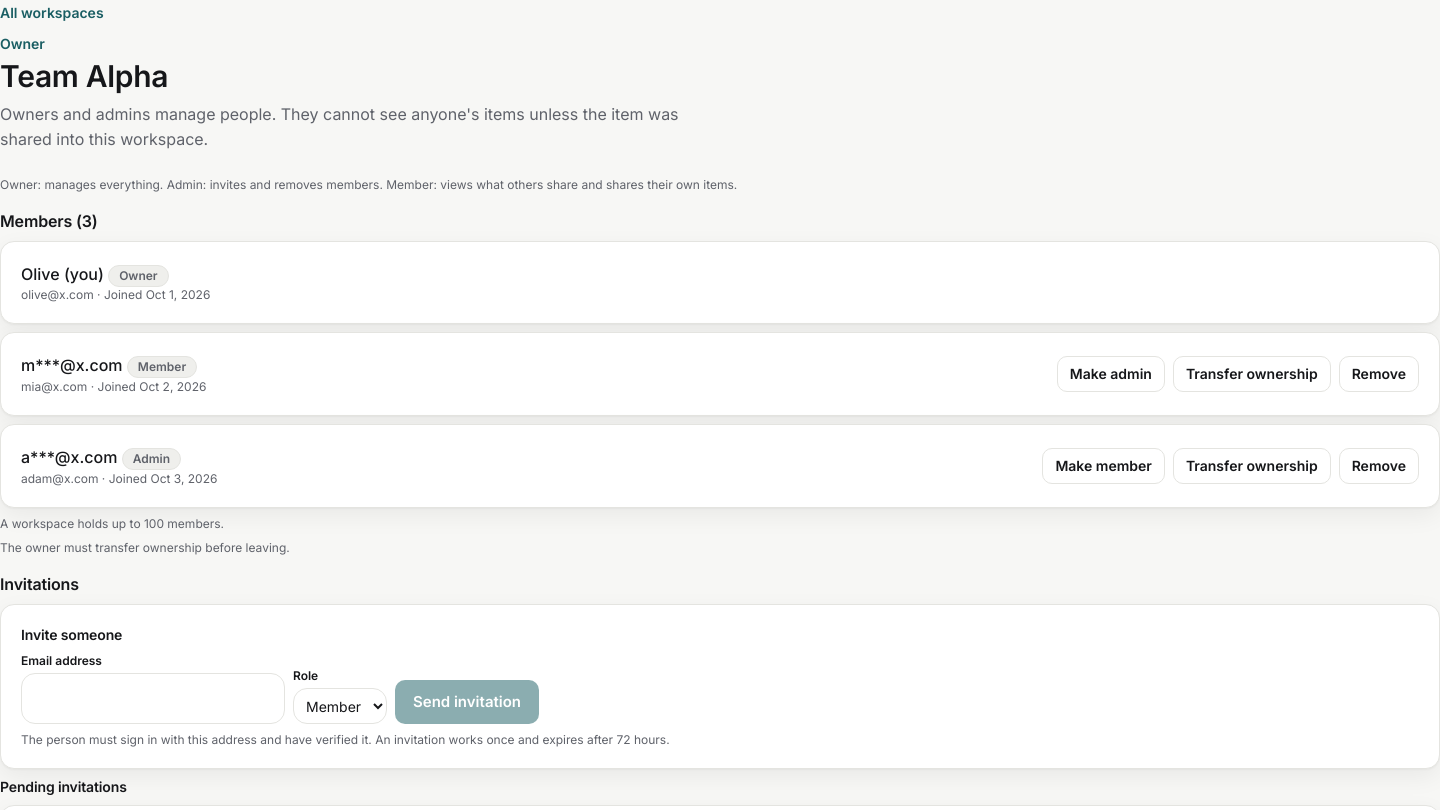
Test case: Workspace detail as the owner › removes a member only after an accessible confirmation that says what happens, and Cancel changes nothing
This screenshot has width=1440, height=810.
Click the button "Remove" in the row of "Joined Oct 2, 2026".
click(1379, 374)  # box [1339,356,1419,392]
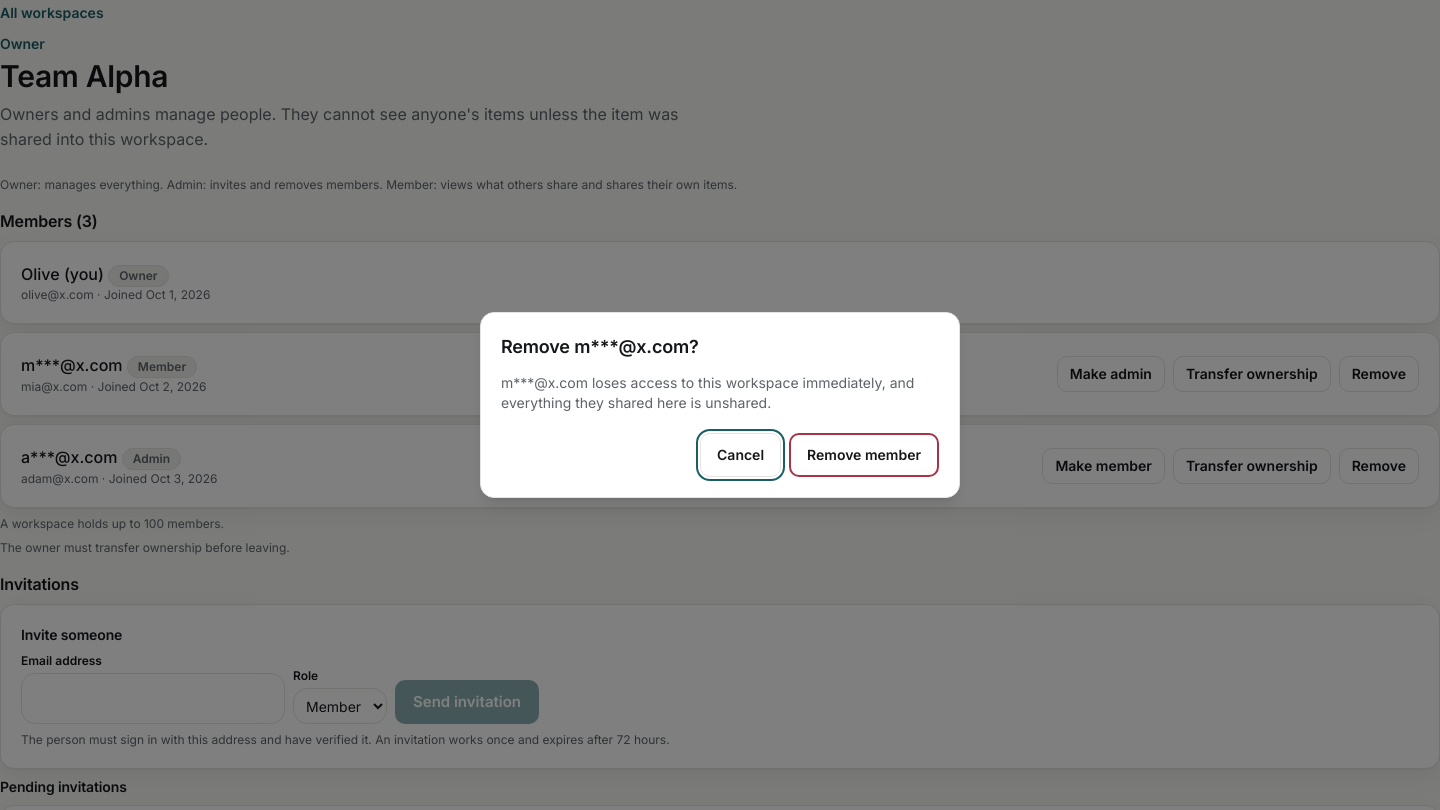
Click the button "Cancel".
click(740, 455)  # box [700,433,781,477]
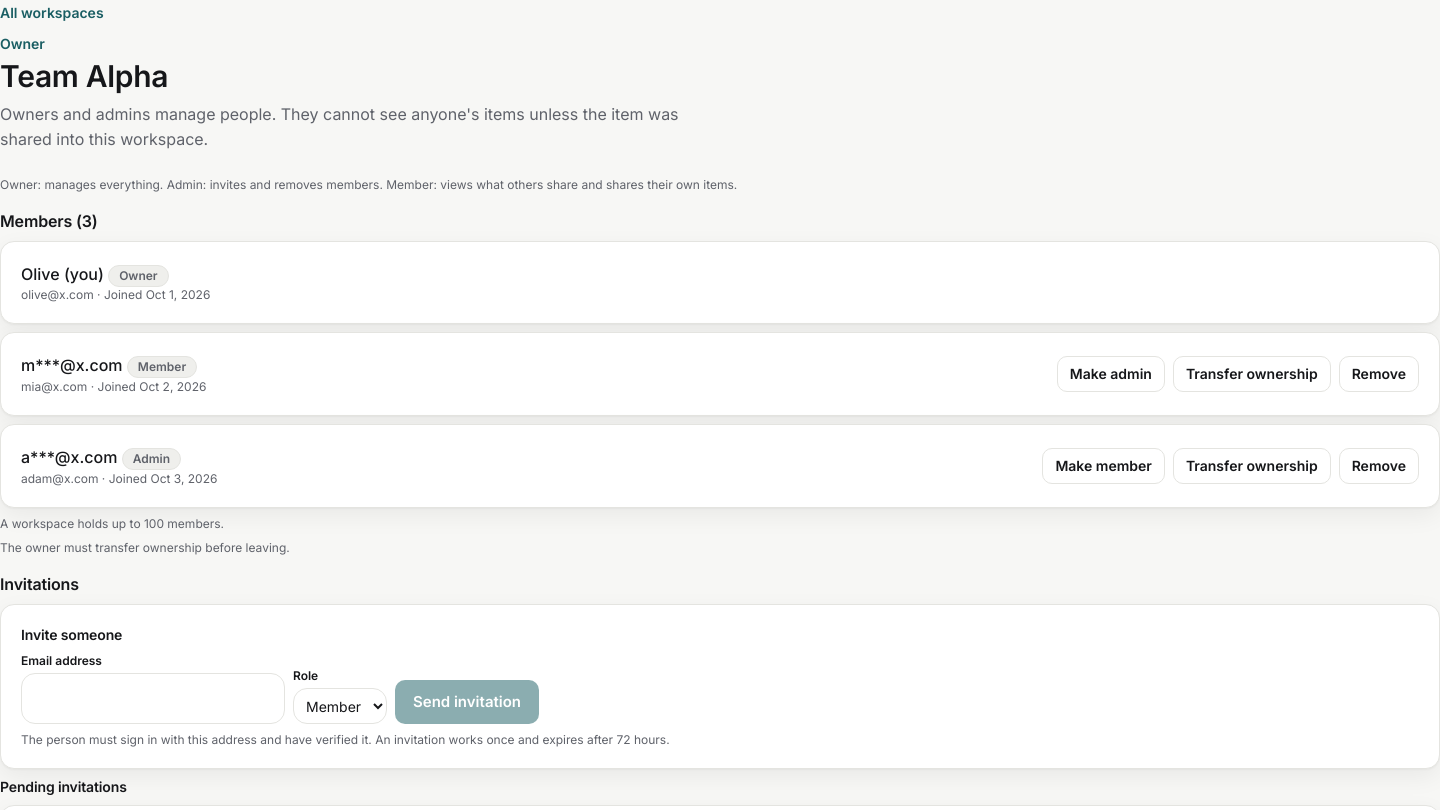
Click the button "Remove" in the row of "Joined Oct 2, 2026".
click(1379, 374)  # box [1339,356,1419,392]
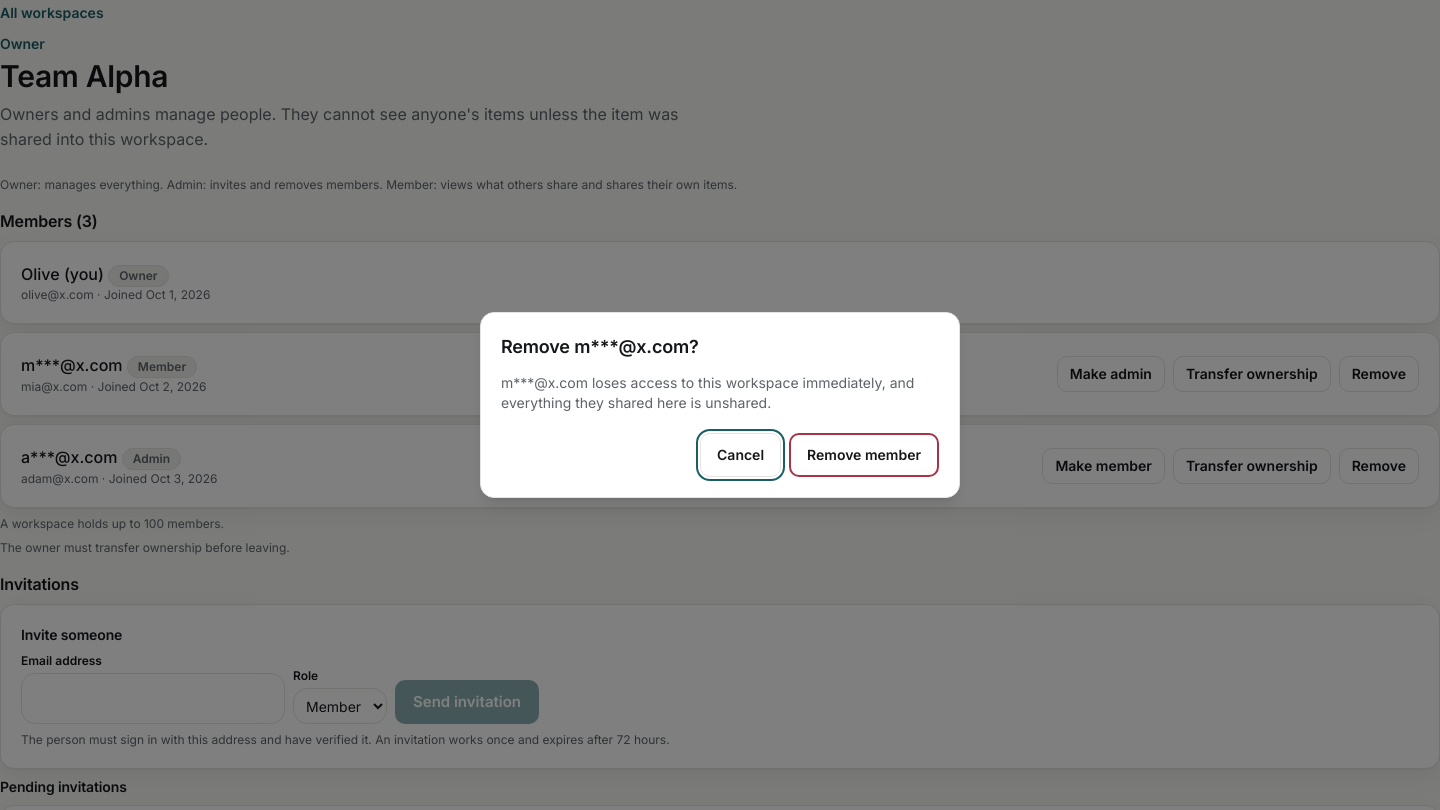
Click the button "Remove member".
click(864, 455)  # box [789,433,939,477]
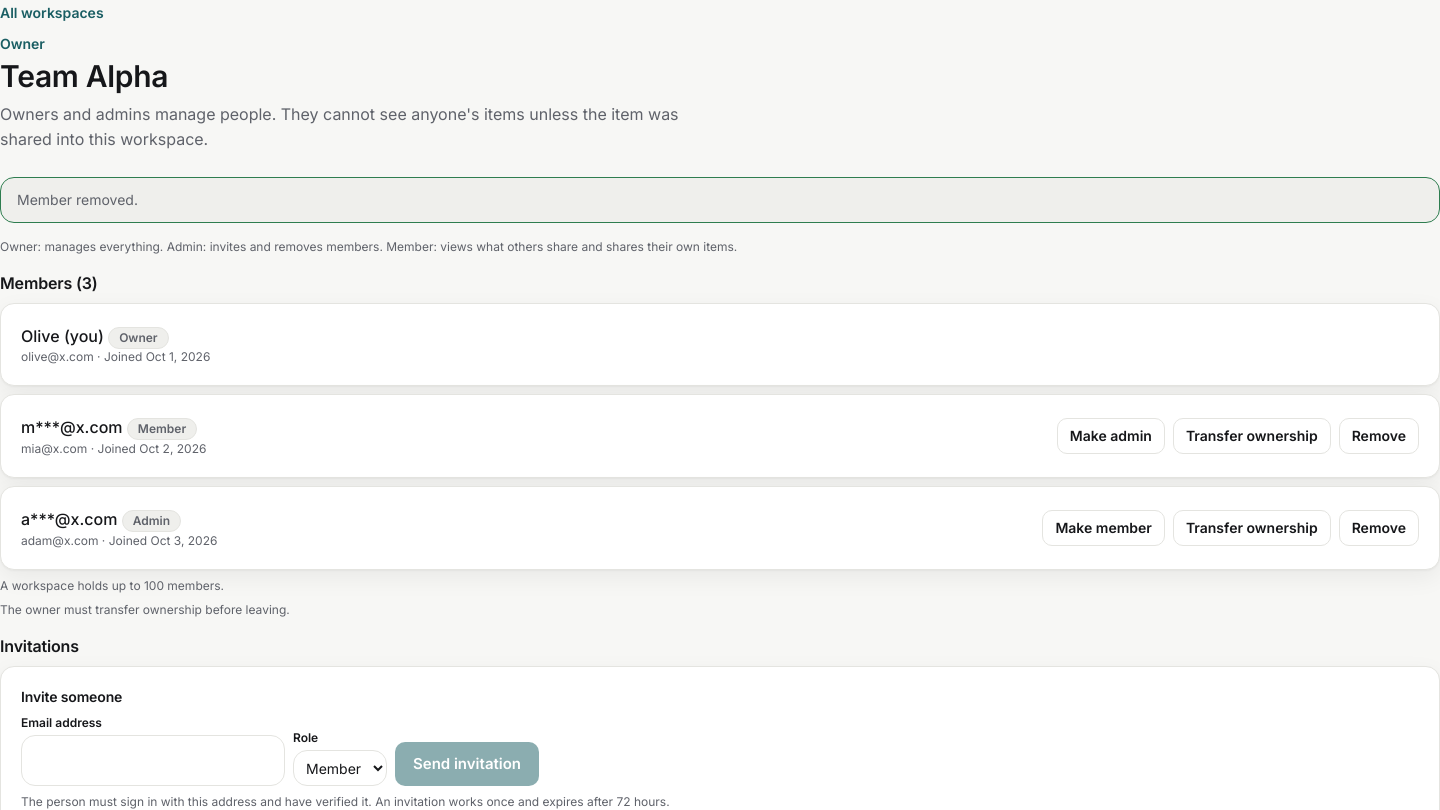
Now the text "Member removed." is shown, box [17,191,138,208]
